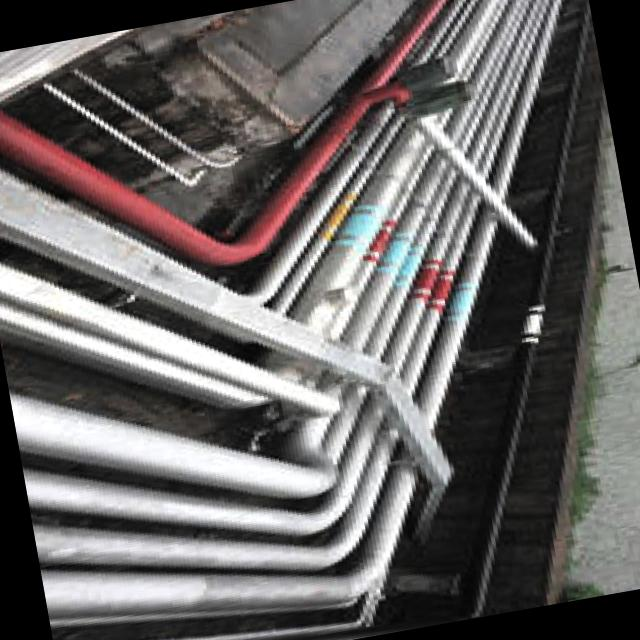gas: (0, 0, 561, 640)
